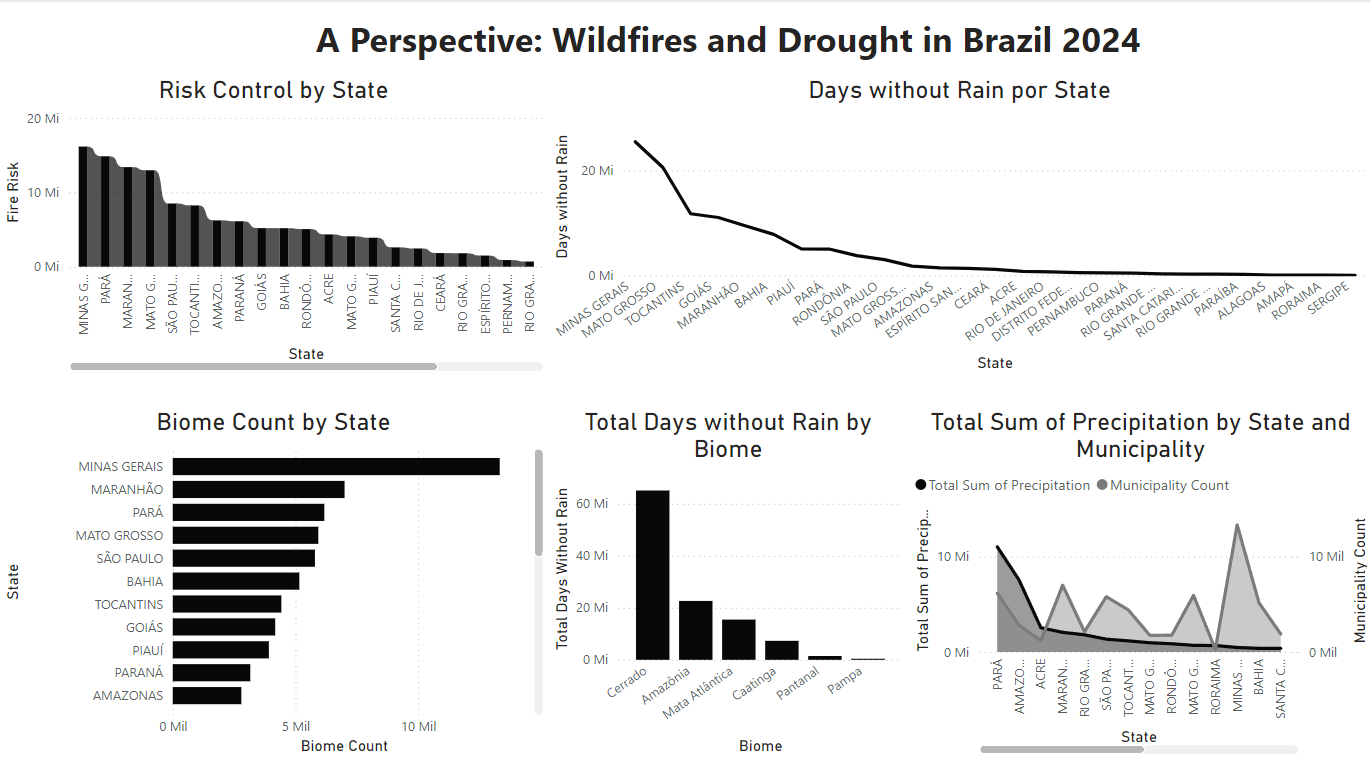

Layout of this report page (visuals, bound fields, positions):
{"tool":"powerbi","page":{"name":"Página 1","canvas":[1280,720],"ordinal":0},"visuals":[{"type":"ribbonChart","title":"Risk Control by State","fields":{"Category":["Dataset_FireWatch_Brazil_Q3_2024.estado"],"Y":["Sum(Dataset_FireWatch_Brazil_Q3_2024.avg_risco_fogo)"]},"box":[0,70.8,512.2,280.7],"z":0},{"type":"barChart","title":"Biome Count by State","fields":{"Category":["Dataset_FireWatch_Brazil_Q3_2024.estado"],"Y":["CountNonNull(Dataset_FireWatch_Brazil_Q3_2024.bioma)"]},"box":[0,380.3,512.2,328.7],"z":1000},{"type":"clusteredColumnChart","title":"Total Days without Rain by Biome","fields":{"Category":["Dataset_FireWatch_Brazil_Q3_2024.bioma"],"Y":["Sum(Dataset_FireWatch_Brazil_Q3_2024.avg_numero_dias_sem_chuva)"]},"box":[512.2,380.3,335.9,328.7],"z":2000},{"type":"areaChart","title":"Total Sum of Precipitation by State and Municipality","fields":{"Category":["Dataset_FireWatch_Brazil_Q3_2024.estado"],"Y":["Sum(Dataset_FireWatch_Brazil_Q3_2024.avg_precipitacao)"],"Y2":["CountNonNull(Dataset_FireWatch_Brazil_Q3_2024.municipio)"]},"box":[848.1,380.3,431.9,328.7],"z":3000},{"type":"lineChart","fields":{"Category":["Dataset_FireWatch_Brazil_Q3_2024.estado"],"Y":["Sum(Dataset_FireWatch_Brazil_Q3_2024.avg_numero_dias_sem_chuva)"]},"box":[512.2,70.8,767.8,280.7],"z":4000},{"type":"textbox","box":[197.9,9.6,964.5,61.2],"z":4001}]}

Visuals, with their boxes in screenshot pixels (x1, y1, x2, y2), scaled from the page's 1280x720 canvas onto the 1371x766 screenshot:
"Risk Control by State" ribbonChart: 0,75,549,374
"Biome Count by State" barChart: 0,405,549,754
"Total Days without Rain by Biome" clusteredColumnChart: 549,405,908,754
"Total Sum of Precipitation by State and Municipality" areaChart: 908,405,1370,754
lineChart - Dataset_FireWatch_Brazil_Q3_2024.estado x Sum(Dataset_FireWatch_Brazil_Q3_2024.avg_numero_dias_sem_chuva): 549,75,1370,374
textbox: 212,10,1245,75
